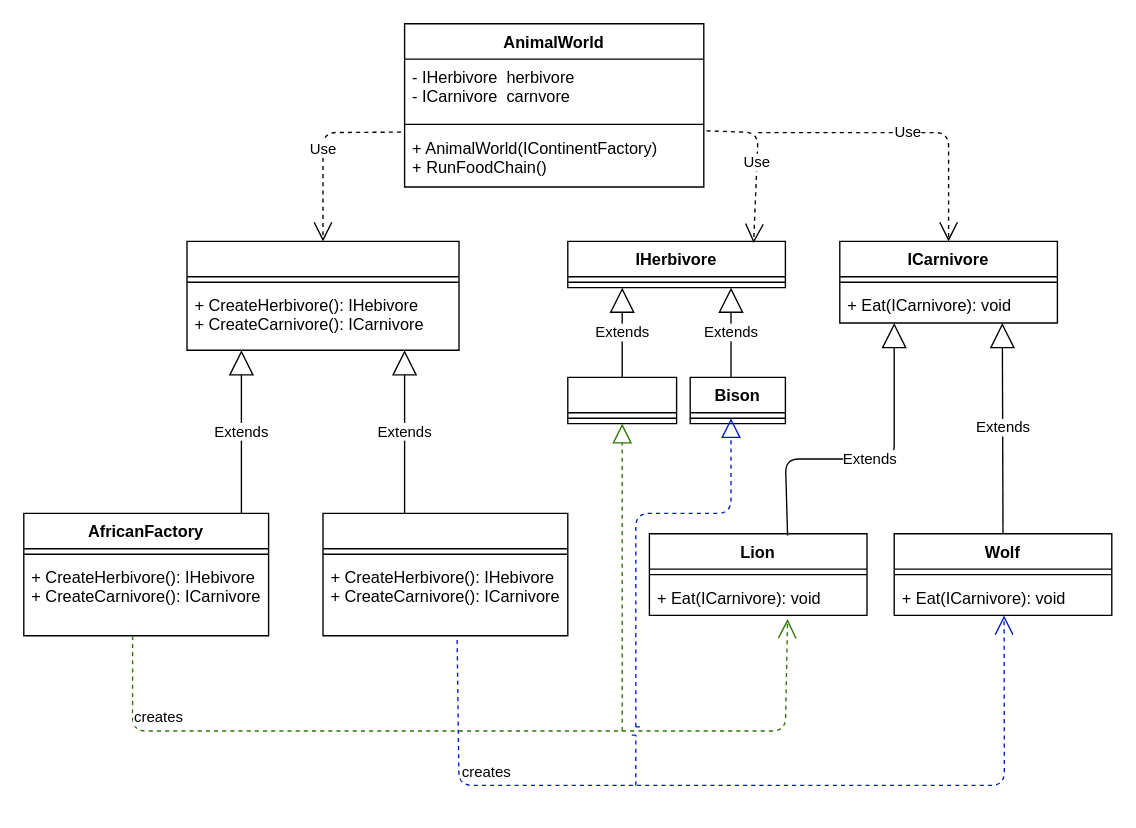
Some shapes in this 1136 by 828 pixel diagram are drawn without their labels. The shapes that lost their labels are listed below. From the top down, each one's box as (x1, y1, x2, y2) in pixels, then its label:
(186, 240, 459, 350): IContinentFactory
(566, 376, 677, 424): Wildebeest
(322, 512, 568, 636): AmericanFactory
